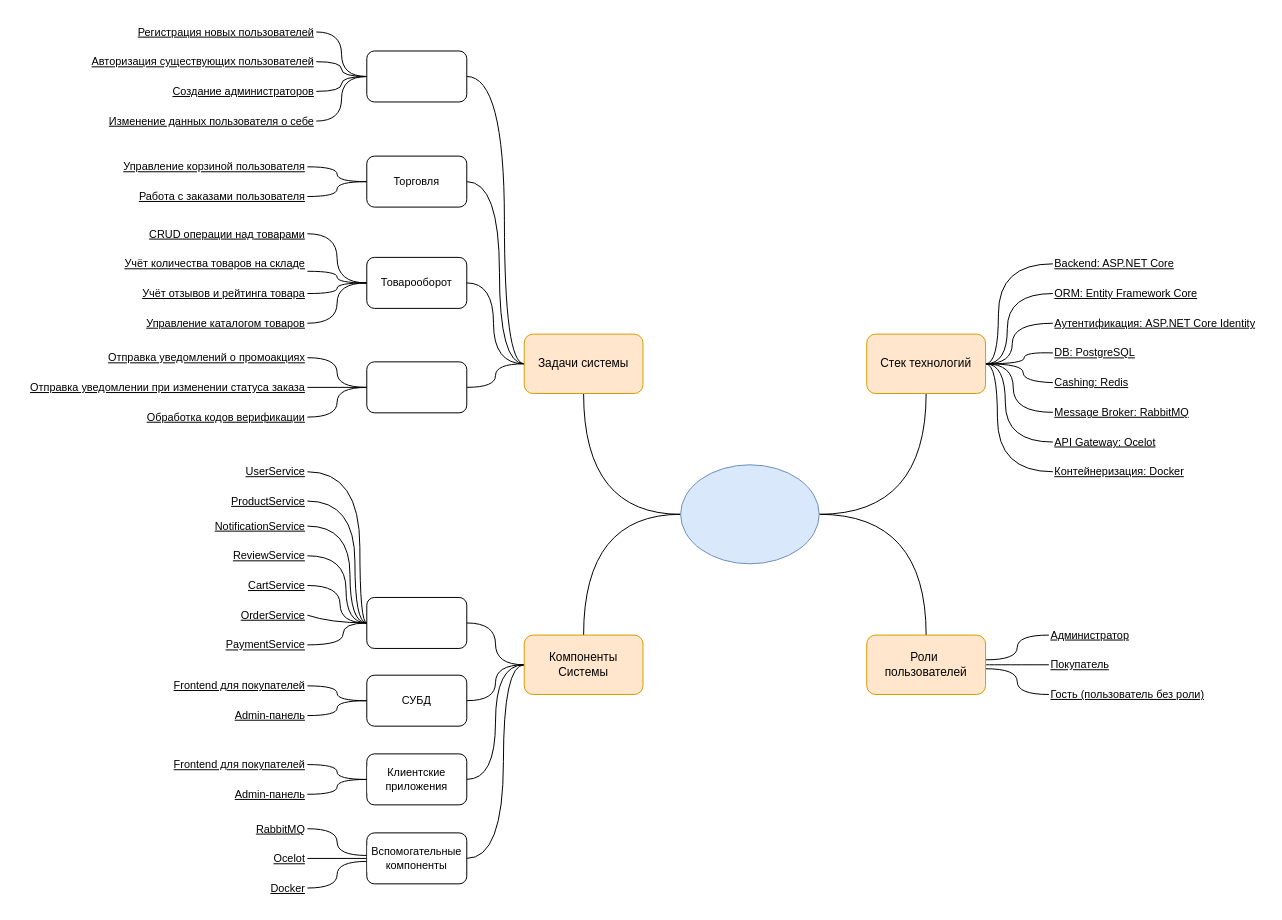
This 1282x920 diagram has some shape labels left out. Each missing label, with the centre of its shape:
Интернет-магазин: the point at 749,514
Микросервисы: the point at 416,622
Пользователи: the point at 416,76
Уведомления: the point at 416,387
